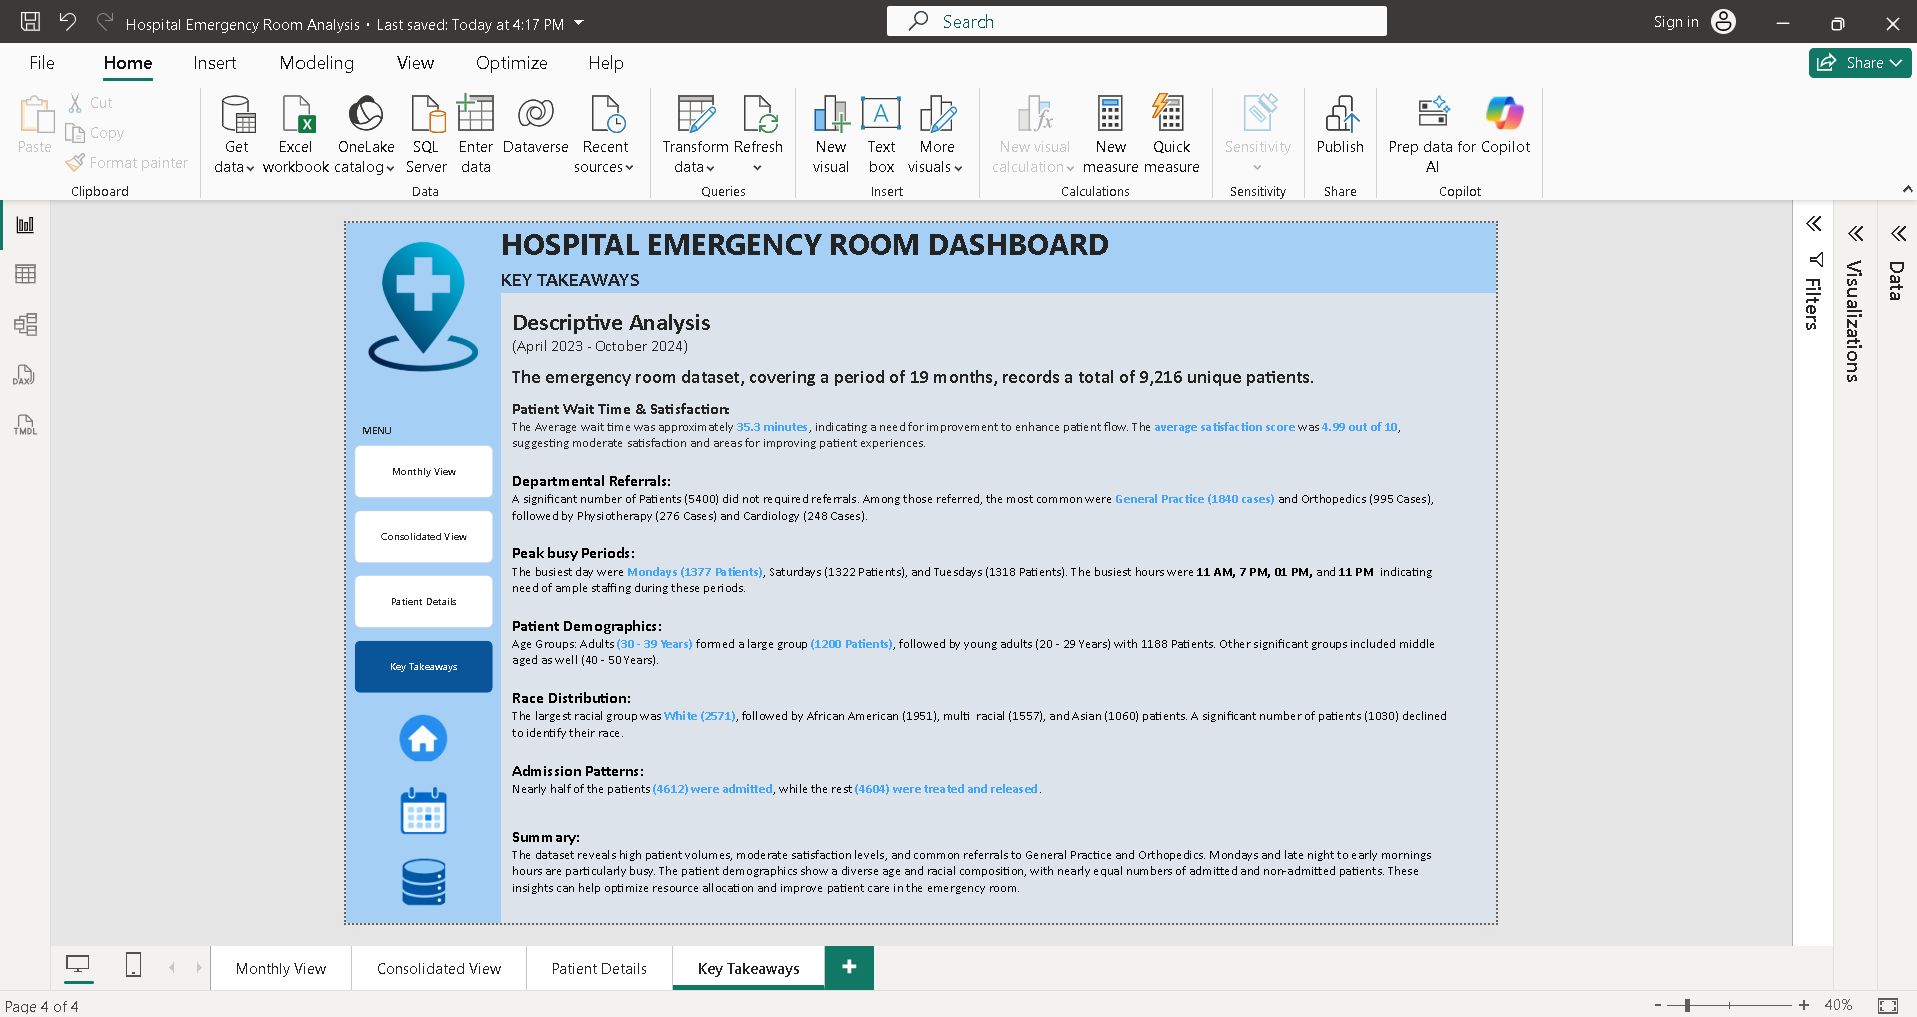

The page's visual inventory and layout, read from the dashboard file:
{"tool":"powerbi","page":{"name":"Key Takeaways","canvas":[2300,1400],"ordinal":3},"visuals":[{"type":"shape","box":[0,0,310,1400],"z":0},{"type":"shape","box":[310,0,1990,140],"z":1000},{"type":"textbox","box":[310,0,1247.5,90],"z":2000},{"type":"textbox","box":[310,90,422.5,50],"z":3000},{"type":"image","box":[17.5,37.5,275,260],"z":4000},{"type":"textbox","box":[333.3,168.3,1893.3,1231.7],"z":5000},{"type":"pageNavigator","box":[18,444,276,496],"z":6000},{"type":"textbox","box":[33.3,402.2,85.6,33.3],"z":7000},{"type":"image","box":[90,967.5,130,125],"z":7001},{"type":"image","box":[90,1112.5,130,125],"z":7002},{"type":"image","box":[90,1255,130,125],"z":7003}]}

Visuals, with their boxes on the page's 2300x1400 design canvas (x1, y1, x2, y2). These are canvas units, not pixel positions in the 1917x1017 screenshot, which may show the page scaled, cropped or inside an application window:
shape: 0 0 310 1400
shape: 310 0 2300 140
textbox: 310 0 1558 90
textbox: 310 90 732 140
image: 18 38 292 298
textbox: 333 168 2227 1400
pageNavigator: 18 444 294 940
textbox: 33 402 119 436
image: 90 968 220 1092
image: 90 1112 220 1238
image: 90 1255 220 1380
